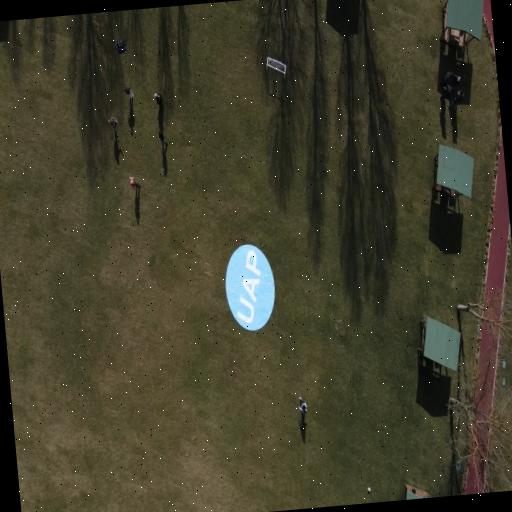UAP: (225, 245, 275, 330)
person: (443, 72, 461, 86), (159, 131, 167, 149), (442, 85, 452, 99), (299, 398, 307, 415), (124, 86, 133, 101), (117, 39, 126, 54), (154, 92, 163, 105), (108, 117, 117, 130), (130, 177, 140, 188), (457, 90, 464, 101)
